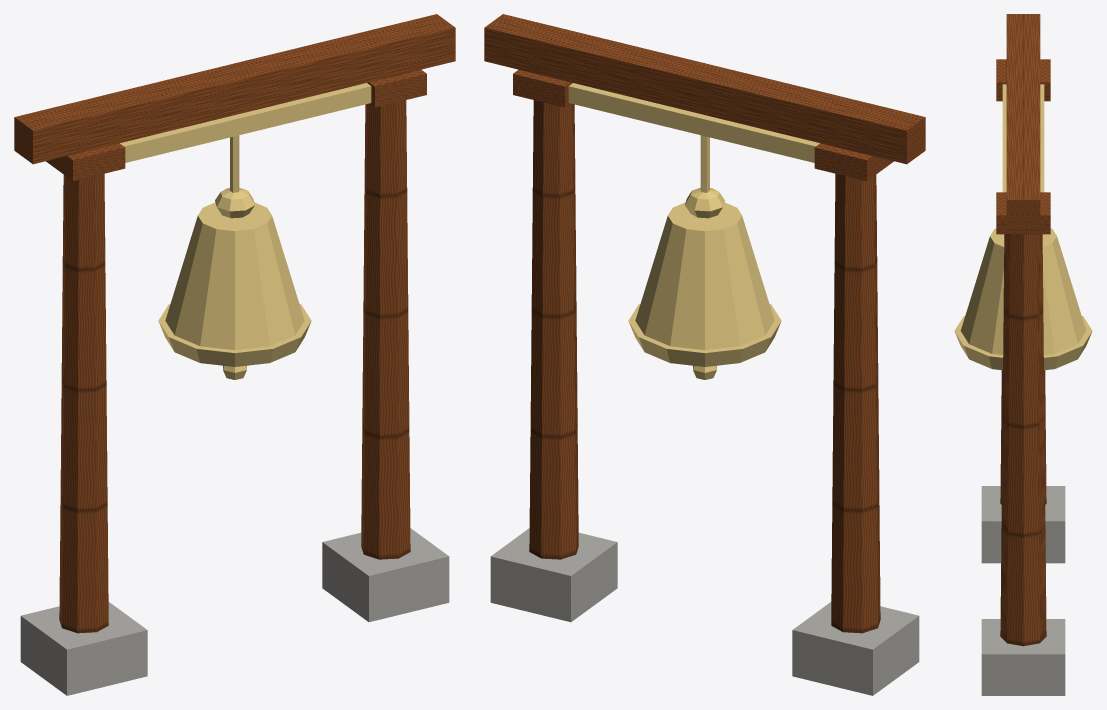
File: temple-bell.glb
3 renders of one model, left to right at view 1: azimuth 30°, elevation 25°; view 2: azimuth 150°, elevation 25°; view 3: azimuth 270°, elevation 25°, orthographic. The views are drawn at different scales.
Visible parts, largest first — view 1: temple-bell-on-frame-timber, bell, temple-bell-on-frame-stone, temple-bell-on-frame-brass; view 2: temple-bell-on-frame-timber, bell, temple-bell-on-frame-stone, temple-bell-on-frame-brass; view 3: temple-bell-on-frame-timber, bell, temple-bell-on-frame-stone, temple-bell-on-frame-brass.
Boxes of the visible parts, x1,y1,x2,y2 form: temple-bell-on-frame-timber: (14,14,455,633); bell: (158,135,311,379); temple-bell-on-frame-stone: (20,528,449,695); temple-bell-on-frame-brass: (120,83,371,162); temple-bell-on-frame-timber: (484,14,925,633); bell: (628,135,781,379); temple-bell-on-frame-stone: (490,528,919,695); temple-bell-on-frame-brass: (568,83,819,162); temple-bell-on-frame-timber: (996,14,1050,646); bell: (954,228,1092,370); temple-bell-on-frame-stone: (981,486,1065,695); temple-bell-on-frame-brass: (1002,84,1044,192).
Bounding box in the file's own units: 2.1 × 2.66 × 0.66.
3 materials, 2 textured.
